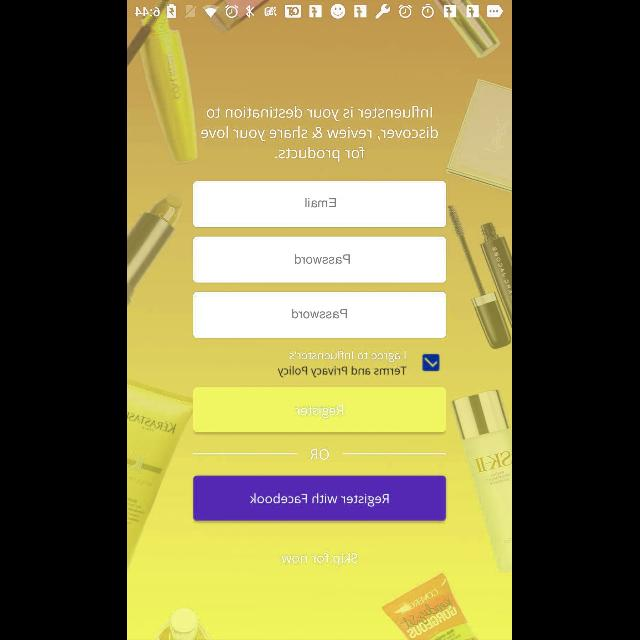backgroundimage: (128, 21, 512, 640)
checkbox: (424, 354, 441, 372)
input: (194, 181, 446, 227), (194, 237, 446, 283), (194, 292, 446, 338)
text: (202, 106, 438, 162), (278, 351, 408, 377), (282, 552, 358, 566), (296, 254, 350, 264), (292, 310, 348, 318), (306, 198, 336, 208), (310, 448, 330, 459)
textbutton: (194, 387, 446, 433), (194, 476, 446, 520)
uppertaskbar: (128, 1, 512, 19)
